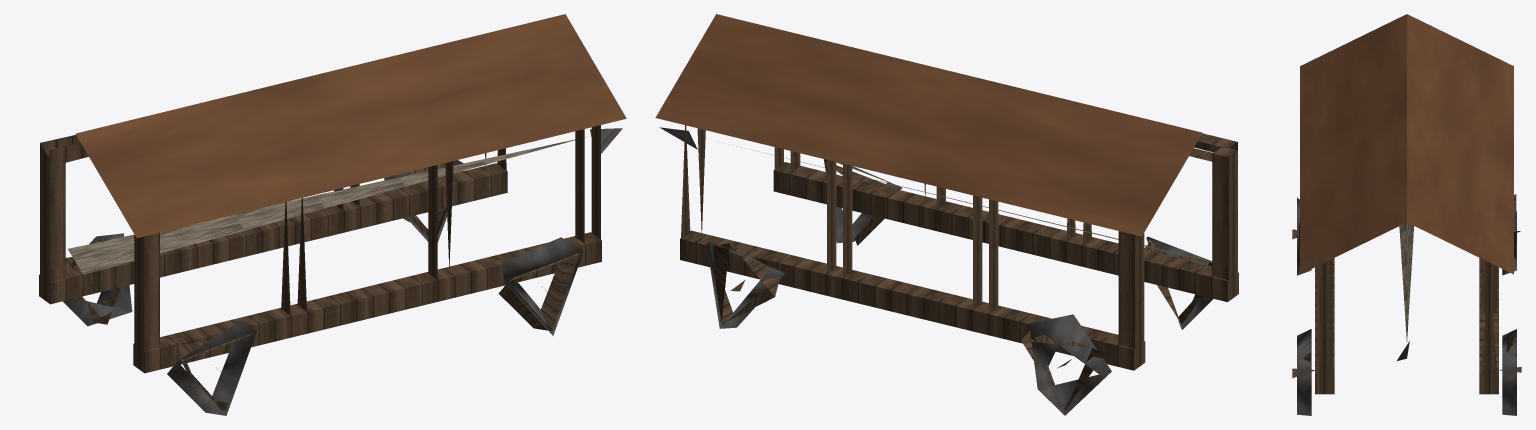
Rendered from Battering_Ram_1_LOD2.gltf.
3 views of the same model, side by side, from view 1: azimuth 30°, elevation 25°; view 2: azimuth 150°, elevation 25°; view 3: azimuth 270°, elevation 25° (orthographic). The views are drawn at different scales.
Visible parts, largest first — view 1: Battering_Ram_1_LOD2; view 2: Battering_Ram_1_LOD2; view 3: Battering_Ram_1_LOD2.
Part boxes in pixels (<box>): Battering_Ram_1_LOD2: <box>39,14,626,415</box>; Battering_Ram_1_LOD2: <box>655,14,1238,415</box>; Battering_Ram_1_LOD2: <box>1292,14,1521,415</box>.
Bounding box in the file's own units: 6.71 × 3.01 × 2.79.
4 materials, 4 textured.
